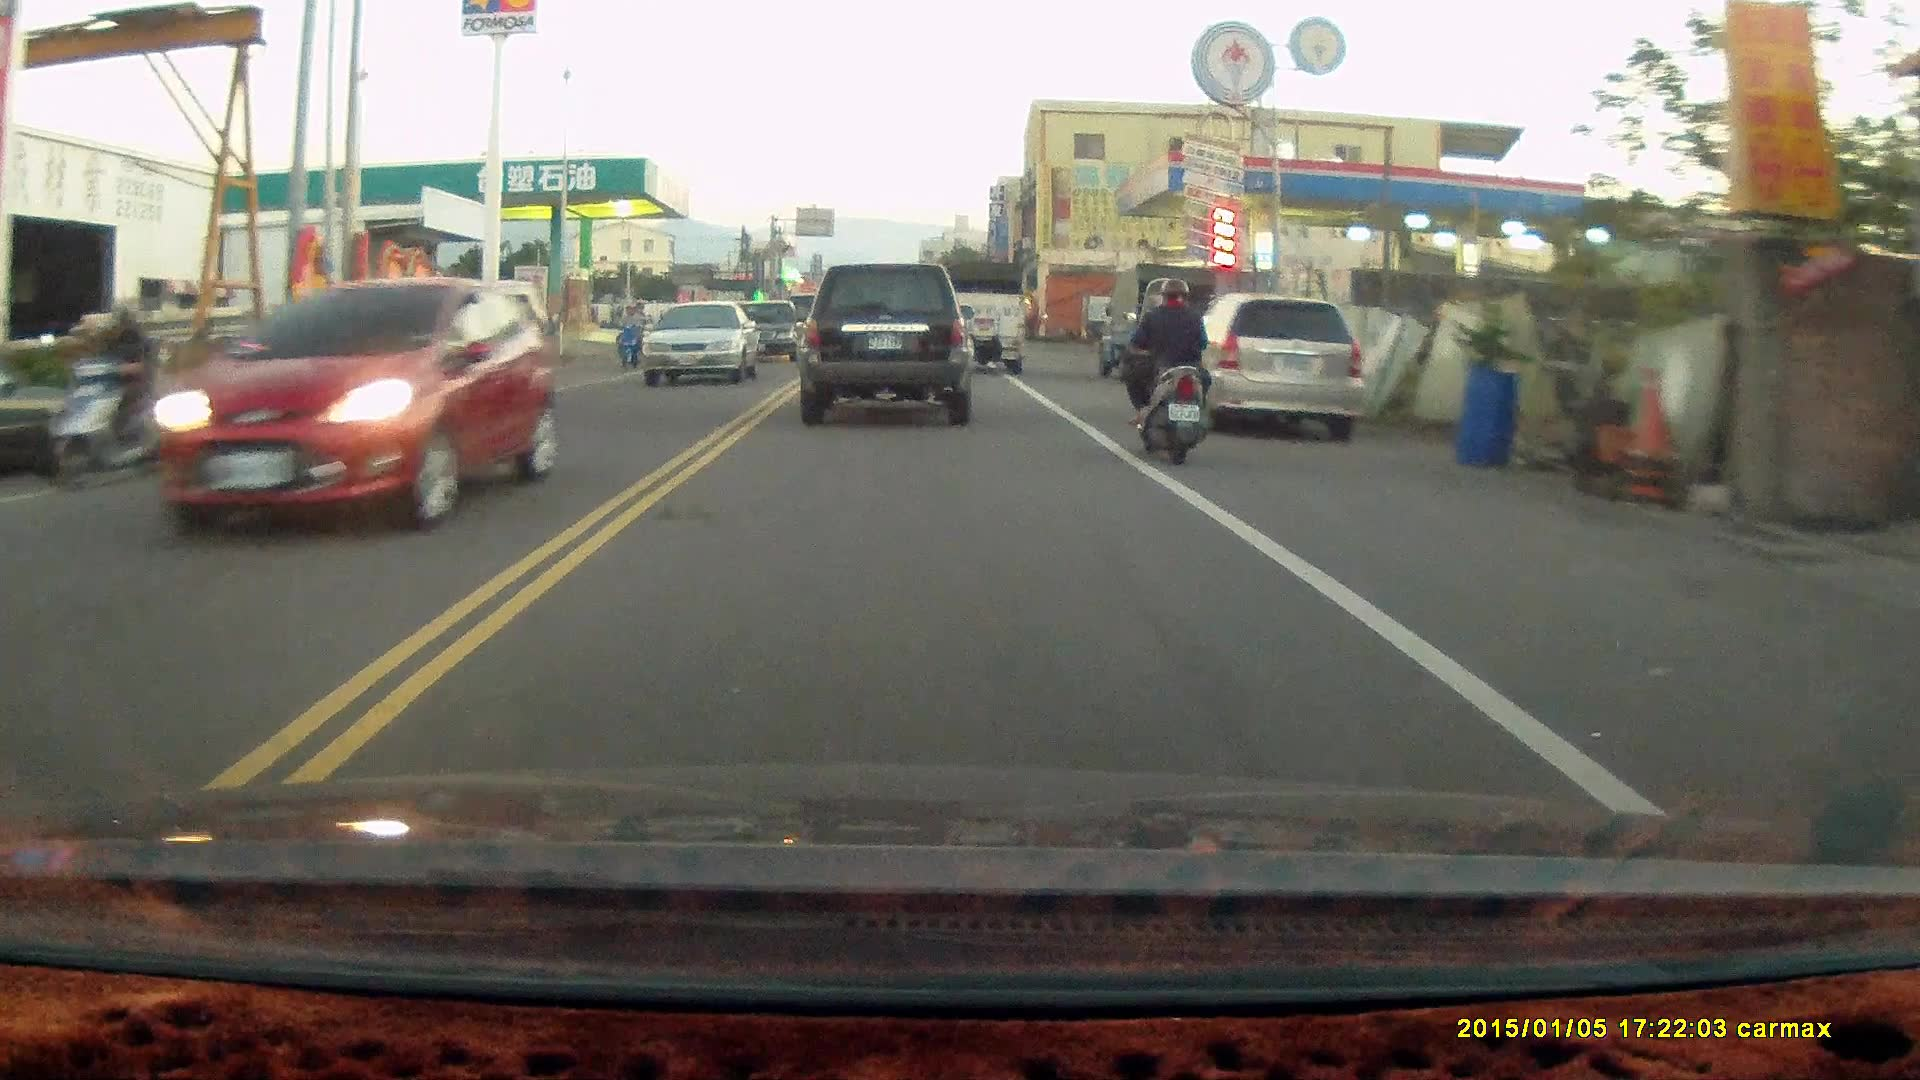rider: (33, 297, 193, 495), (1116, 272, 1213, 459), (611, 299, 650, 369)
vehicle: (175, 275, 554, 538), (320, 278, 540, 442), (1175, 292, 1367, 444), (794, 261, 970, 426), (1100, 263, 1220, 379), (641, 301, 763, 387), (938, 255, 1026, 373), (730, 301, 808, 361)
